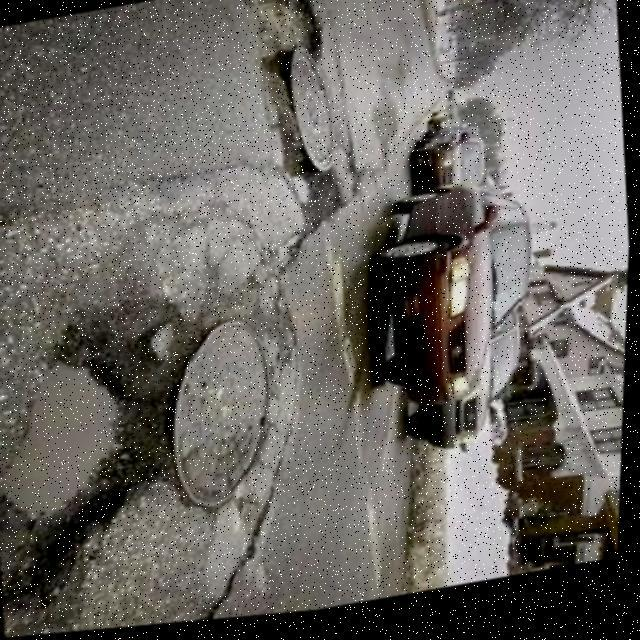pothole: (0, 295, 191, 621), (246, 0, 334, 96), (278, 151, 349, 241)
